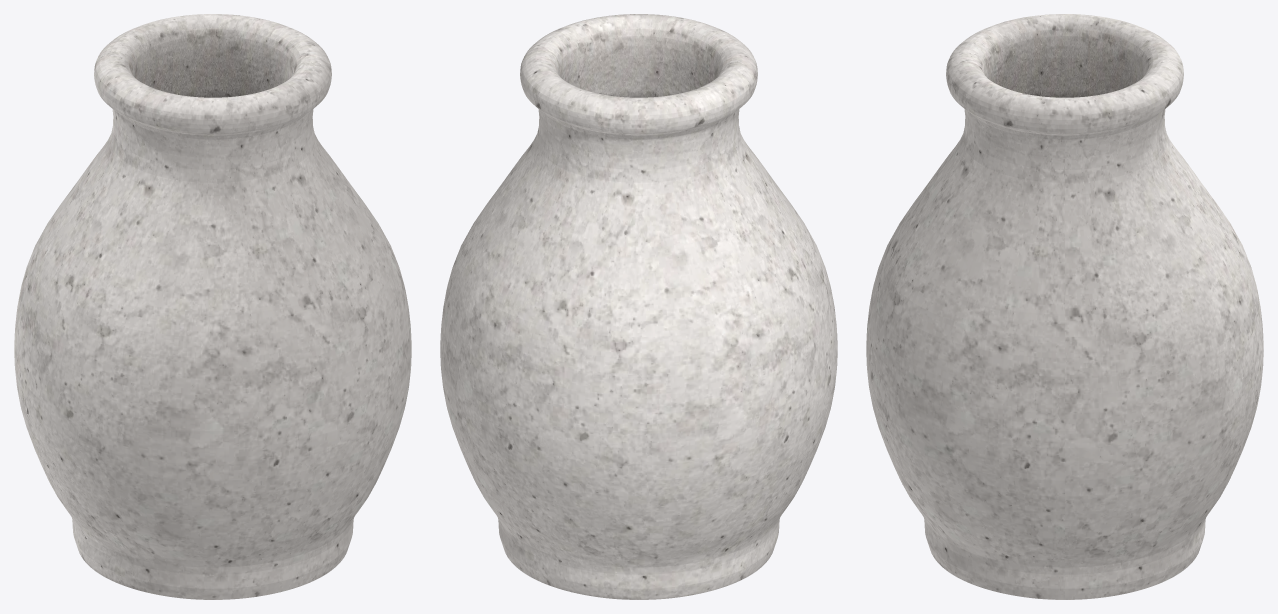
The model's file is vase-small-white.glb.
The picture shows the model from 3 angles, left to right: view 1: azimuth 30°, elevation 25°; view 2: azimuth 150°, elevation 25°; view 3: azimuth 270°, elevation 25°; orthographic projection.
Parts seen in each view (by area): view 1: vase-small-white; view 2: vase-small-white; view 3: vase-small-white.
Part boxes in pixels (bbox=[...]): vase-small-white: bbox=[14, 14, 411, 599]; vase-small-white: bbox=[440, 14, 837, 599]; vase-small-white: bbox=[866, 14, 1263, 599].
Size of the model in its own units: 0.0167 by 0.0226 by 0.0167.
1 material, 1 textured.
